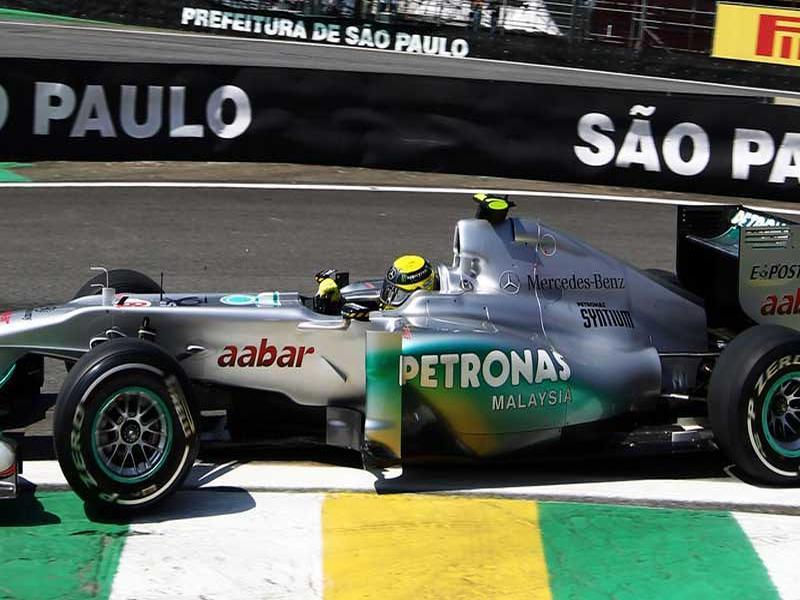f1: (2, 170, 800, 521)
